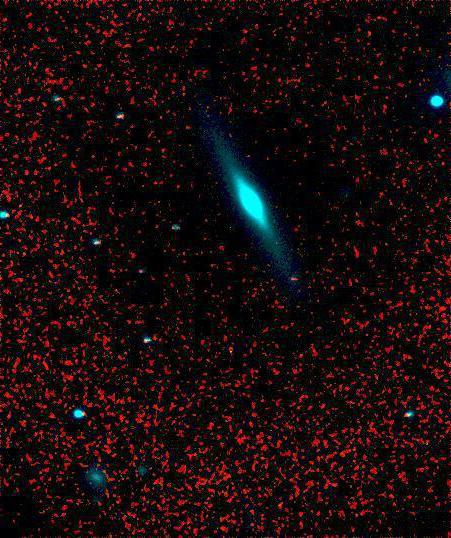star: (222, 214, 252, 244)
